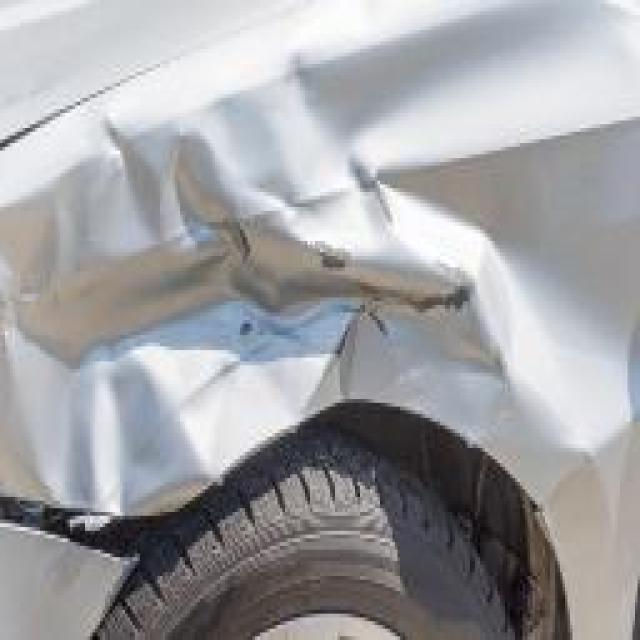Fender: (2, 45, 635, 546)
